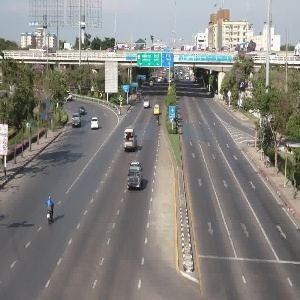motorcycle: (39, 194, 58, 226), (148, 111, 163, 128)
truck: (121, 160, 150, 190), (119, 124, 140, 154)
